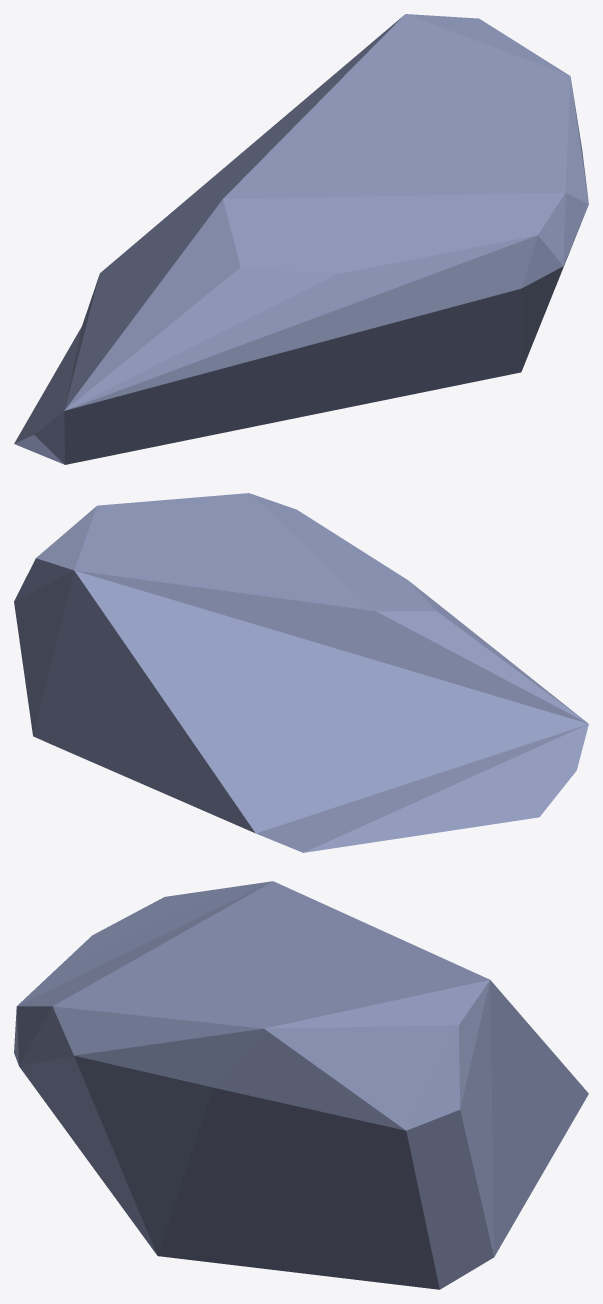
File: Stone_2.fbx
The picture shows the model from 3 angles, top to bottom: view 1: azimuth 30°, elevation 25°; view 2: azimuth 150°, elevation 25°; view 3: azimuth 270°, elevation 25°; orthographic projection. The views are drawn at different scales.
Parts seen in each view (by area): view 1: Stone_2; view 2: Stone_2; view 3: Stone_2.
Part boxes in pixels (box(x1,y1,x2,y2)): Stone_2: box(14, 14, 588, 464); Stone_2: box(14, 493, 588, 852); Stone_2: box(14, 881, 588, 1289).
Bounding box in the file's own units: 1.13 × 0.4653 × 0.8115.
